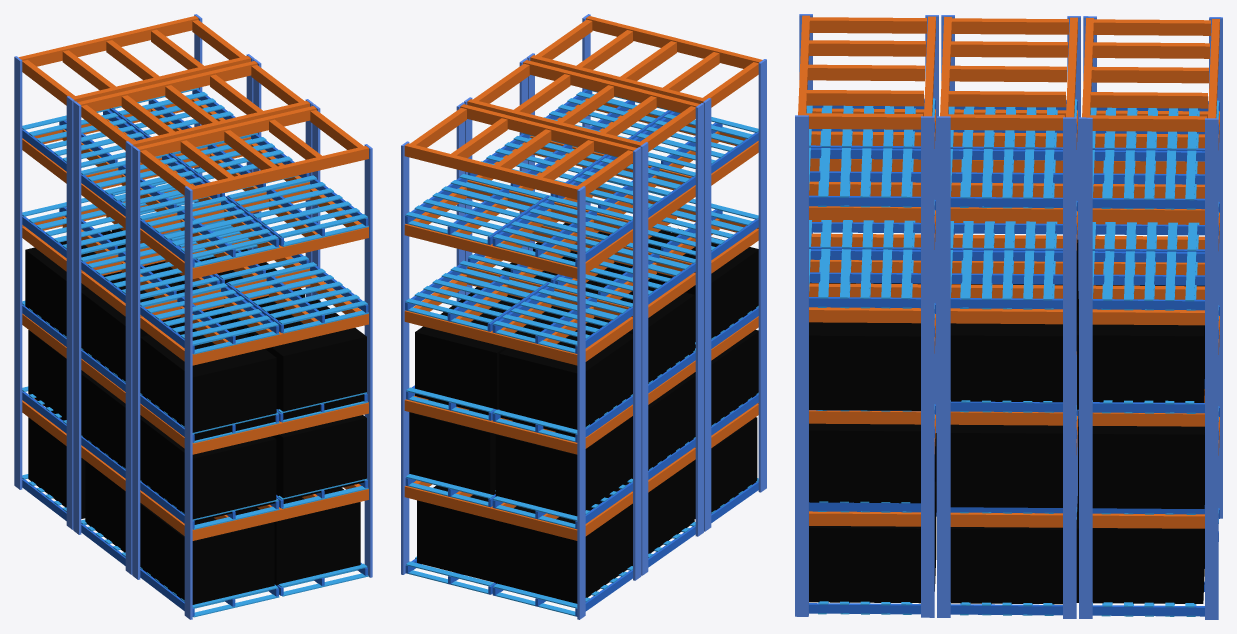
The model's file is bmetrack.glb.
3 renders of one model, left to right at view 1: azimuth 30°, elevation 25°; view 2: azimuth 150°, elevation 25°; view 3: azimuth 270°, elevation 25°, orthographic. The views are drawn at different scales.
Parts seen in each view (by area): view 1: Box6, Box3, Box1, Box5, Box4, Box2, post_2, post_6, post_10, post_8, post, post_4 (+49 smaller); view 2: Box6_2, Box1_2, Box3_2, Box5_2, Box4_2, Box2_2, post_2, post, post_8, post_4, Box6, post_10 (+50 smaller); view 3: Box5, Box4_2, Box4_1, Box5_2, Box2, Box4, Box5_1, Box2_2, Box2_1, post_1, post_3, post_5 (+86 smaller).
Boxes of the visible parts, x1,y1,x2,y2 form: Box6: [140, 321, 276, 440]; Box3: [140, 417, 276, 521]; Box1: [140, 503, 274, 604]; Box5: [230, 299, 366, 419]; Box4: [272, 415, 366, 500]; Box2: [255, 488, 360, 585]; post_2: [14, 56, 22, 489]; post_6: [73, 101, 81, 534]; post_10: [132, 146, 140, 579]; post_8: [184, 186, 192, 619]; post: [66, 96, 74, 529]; post_4: [125, 141, 133, 574]; Box6_2: [499, 314, 632, 436]; Box1_2: [495, 496, 632, 603]; Box3_2: [495, 416, 632, 516]; Box5_2: [415, 293, 553, 414]; Box4_2: [409, 399, 513, 494]; Box2_2: [417, 485, 495, 582]; post_2: [577, 186, 585, 619]; post: [633, 147, 641, 580]; post_8: [758, 59, 766, 492]; post_4: [695, 103, 703, 536]; Box6: [621, 228, 758, 348]; post_10: [703, 98, 711, 531]; Box5: [809, 322, 920, 410]; Box4_2: [1078, 411, 1204, 508]; Box4_1: [950, 424, 1062, 507]; Box5_2: [1077, 291, 1204, 409]; Box2: [809, 481, 936, 603]; Box4: [809, 423, 920, 503]; Box5_1: [950, 323, 1062, 402]; Box2_2: [1076, 496, 1204, 603]; Box2_1: [950, 527, 1062, 604]; post_1: [1079, 117, 1092, 618]; post_3: [1205, 118, 1218, 619]; post_5: [937, 116, 950, 617].
Size of the model in its own units: 3.05 by 6.73 by 5.22.
